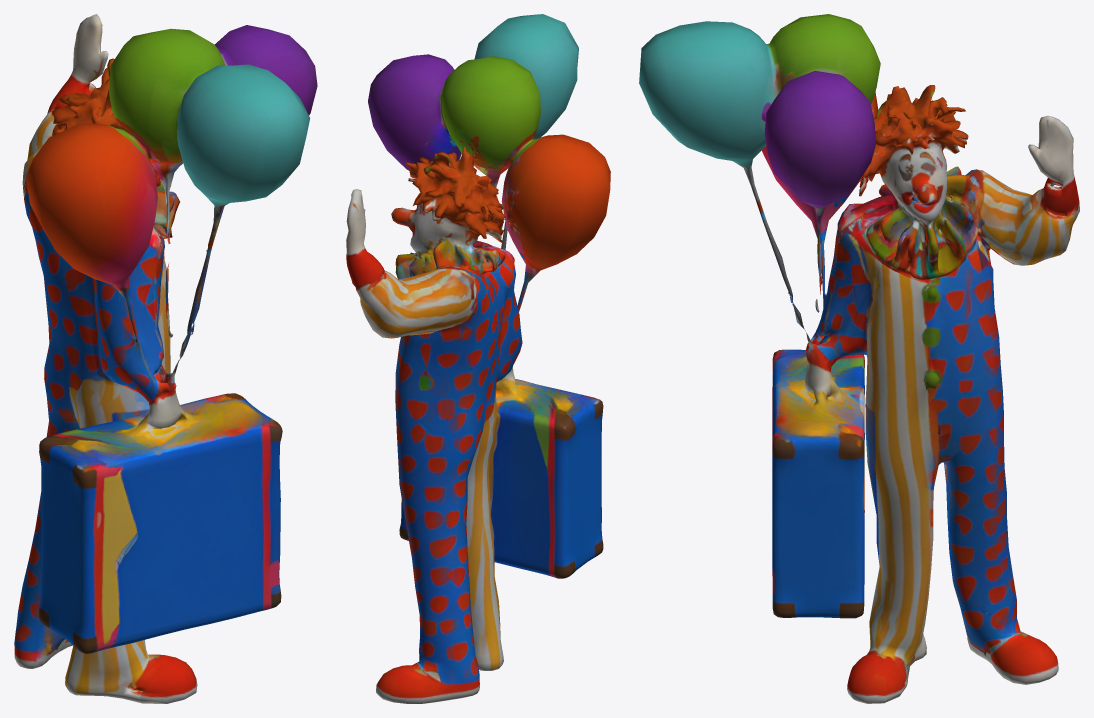
File: pay.obj
3 renders of one model, left to right at view 1: azimuth 30°, elevation 25°; view 2: azimuth 150°, elevation 25°; view 3: azimuth 270°, elevation 25°, orthographic. The views are drawn at different scales.
Visible parts, largest first — view 1: tripo_node_c04339f0-e331-4c32-9127-058ee3ef96a3; view 2: tripo_node_c04339f0-e331-4c32-9127-058ee3ef96a3; view 3: tripo_node_c04339f0-e331-4c32-9127-058ee3ef96a3.
Boxes of the visible parts, box(x1,y1,x2,y2) form: tripo_node_c04339f0-e331-4c32-9127-058ee3ef96a3: box(14, 14, 317, 703); tripo_node_c04339f0-e331-4c32-9127-058ee3ef96a3: box(346, 14, 610, 703); tripo_node_c04339f0-e331-4c32-9127-058ee3ef96a3: box(639, 14, 1079, 703).
Bounding box in the file's own units: 0.4224 × 0.9993 × 0.604.
1 material, 1 textured.
